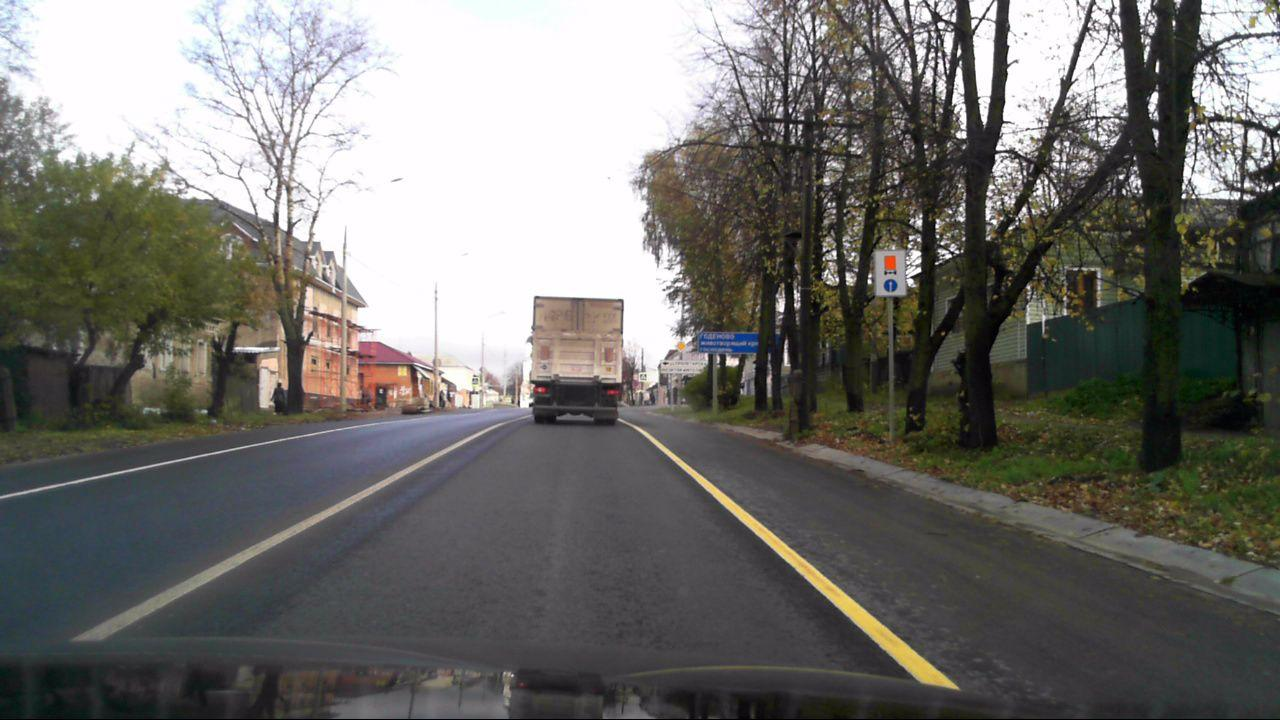2_1: (674, 340, 689, 352)
4_8_1: (874, 250, 905, 297)
5_19_1: (639, 373, 647, 381)
6_11: (698, 332, 779, 353)
